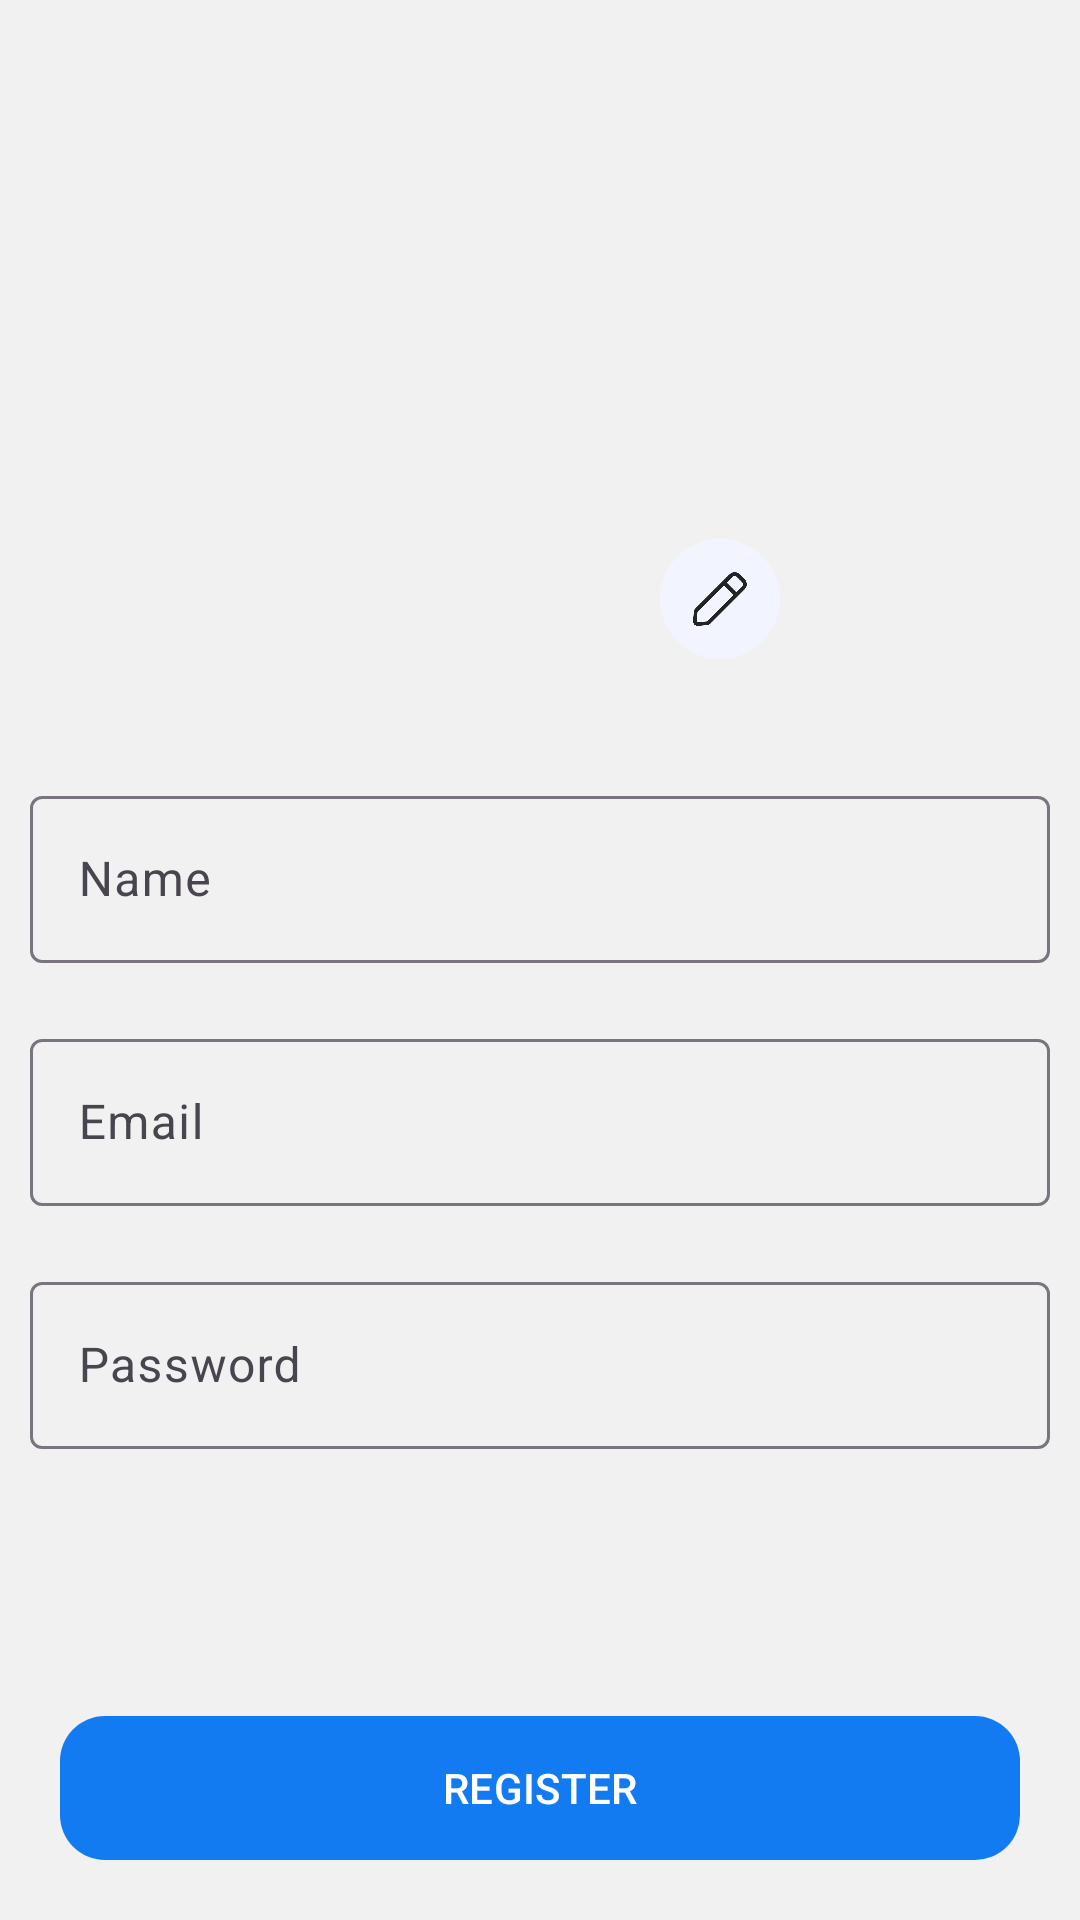

Screen size 1080×1920. Icon name, then its center in pixels as (x=x, y=y):
pencil: (x=720, y=599)
